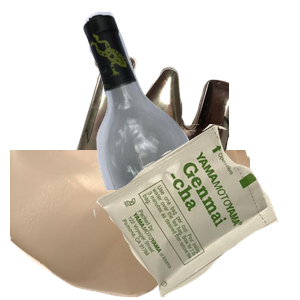glass: (81, 10, 300, 190)
metal: (60, 47, 300, 227)
plastic: (10, 150, 250, 300)
trash: (91, 124, 300, 300)
